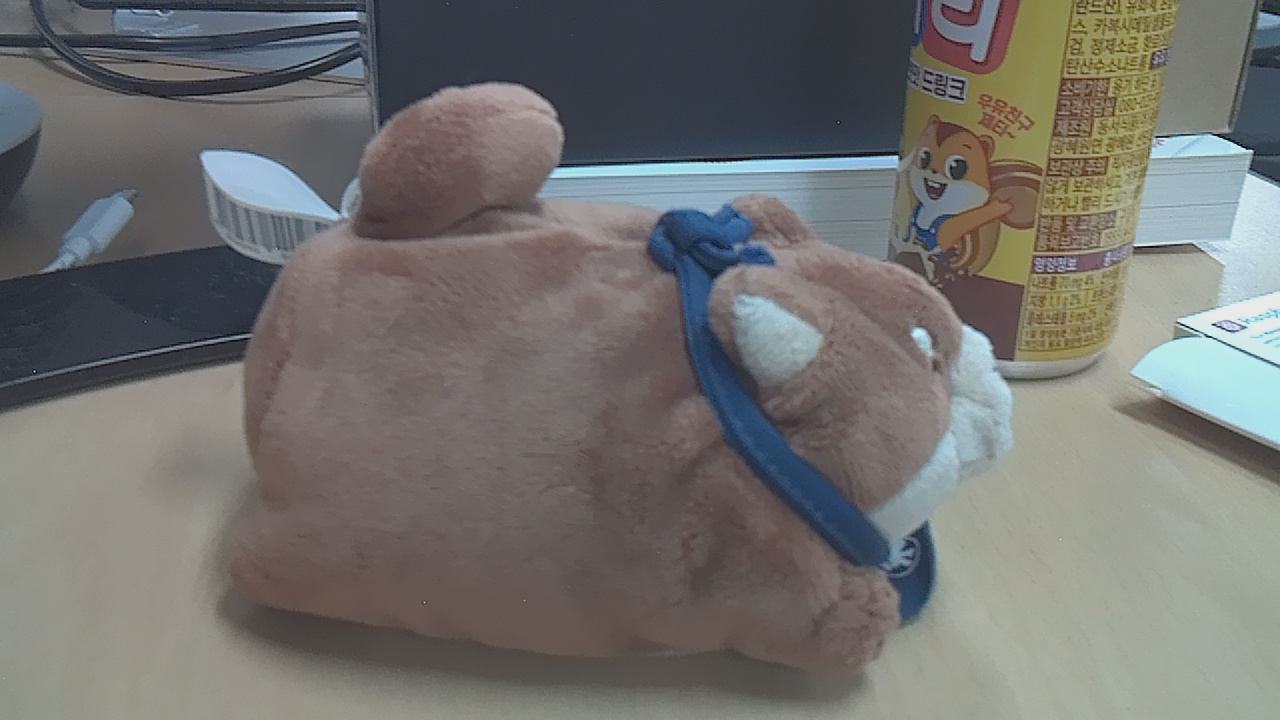cuteDog: (225, 153, 1060, 703)
